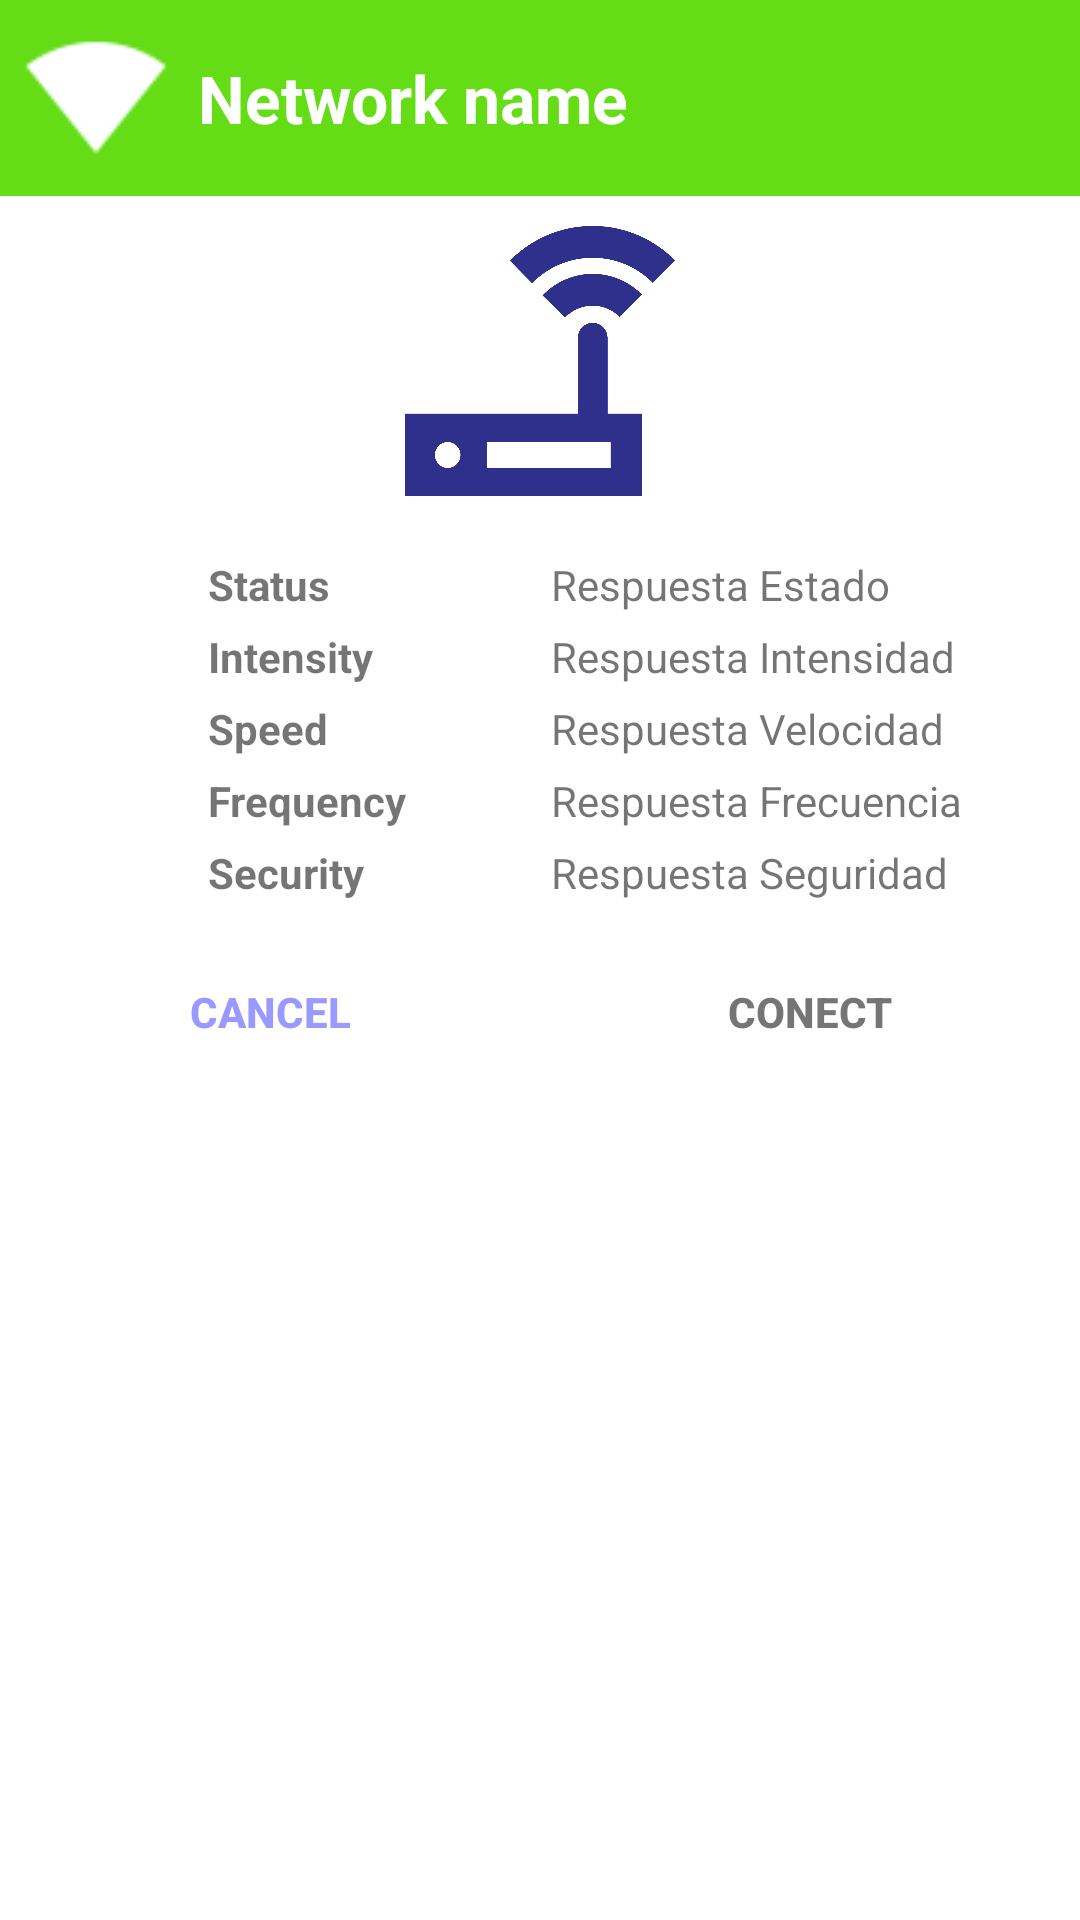

Point at icon controls on the screen. Image size 1080w x 1920h, points as (x,y).
router: (540,361)
wifi blanco: (96,97)
